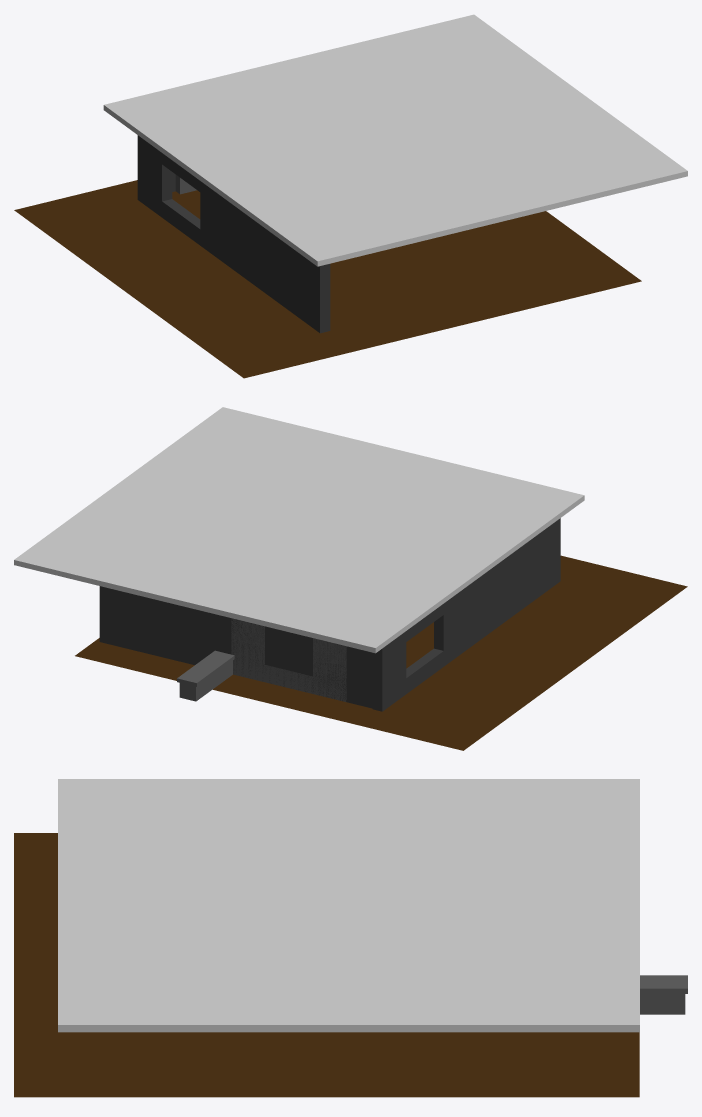
File: MainMenuWhitebox.fbx
3 renders of one model, top to bottom at view 1: azimuth 30°, elevation 25°; view 2: azimuth 150°, elevation 25°; view 3: azimuth 270°, elevation 25°, orthographic. The views are drawn at different scales.
Parts seen in each view (by area): view 1: Cube.006, Plane, Cube; view 2: Cube.006, Plane, Plane.001, Cube, Cube.005, Cube.001; view 3: Cube.006, Plane, Cube.001.
Boxes of the visible parts, box(x1,y1,x2,y2) form: Cube.006: box(103, 14, 687, 266); Plane: box(14, 180, 641, 378); Cube: box(137, 135, 330, 333); Cube.006: box(14, 407, 584, 653); Plane: box(75, 555, 687, 750); Plane.001: box(99, 586, 372, 708); Cube: box(372, 518, 560, 711); Cube.005: box(231, 618, 346, 702); Cube.001: box(177, 650, 234, 701); Cube.006: box(58, 779, 639, 1032); Plane: box(14, 833, 639, 1097); Cube.001: box(640, 975, 687, 1014).
Bounding box in the file's own units: 3276 × 610 × 3054.
